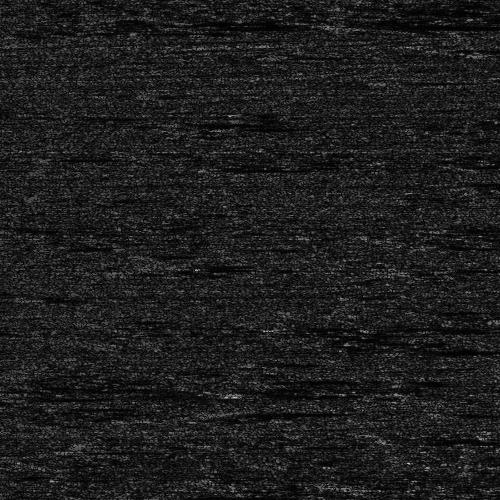rock: (171, 404, 264, 417), (131, 492, 194, 500), (300, 22, 341, 27), (494, 316, 500, 319), (494, 13, 500, 16)
shadow: (218, 404, 332, 417), (163, 492, 271, 500), (321, 22, 487, 27)
